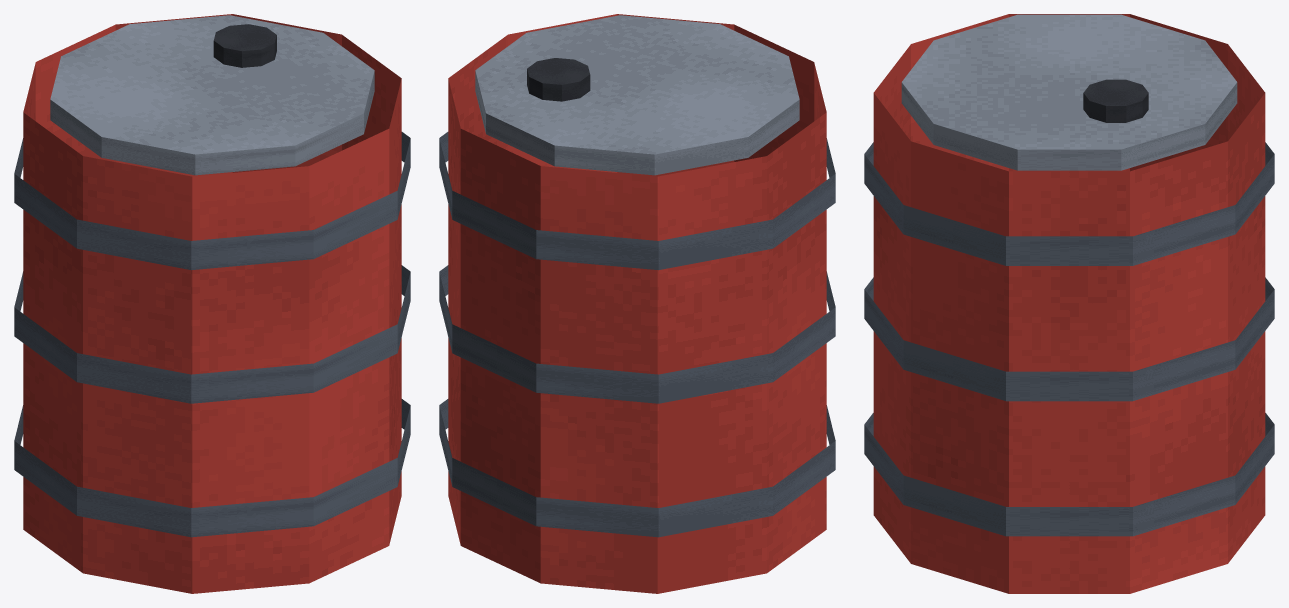
File: prop_barrel.glb
3 views of the same model, side by side, from view 1: azimuth 30°, elevation 25°; view 2: azimuth 150°, elevation 25°; view 3: azimuth 270°, elevation 25° (orthographic).
Visible parts, largest first — view 1: prop_barrel; view 2: prop_barrel; view 3: prop_barrel.
Boxes of the visible parts, x1,y1,x2,y2 form: prop_barrel: (14,14,410,593); prop_barrel: (439,14,835,593); prop_barrel: (864,14,1274,593).
Size of the model in its own units: 0.8369 by 1.06 by 0.88.
1 material, 1 textured.
